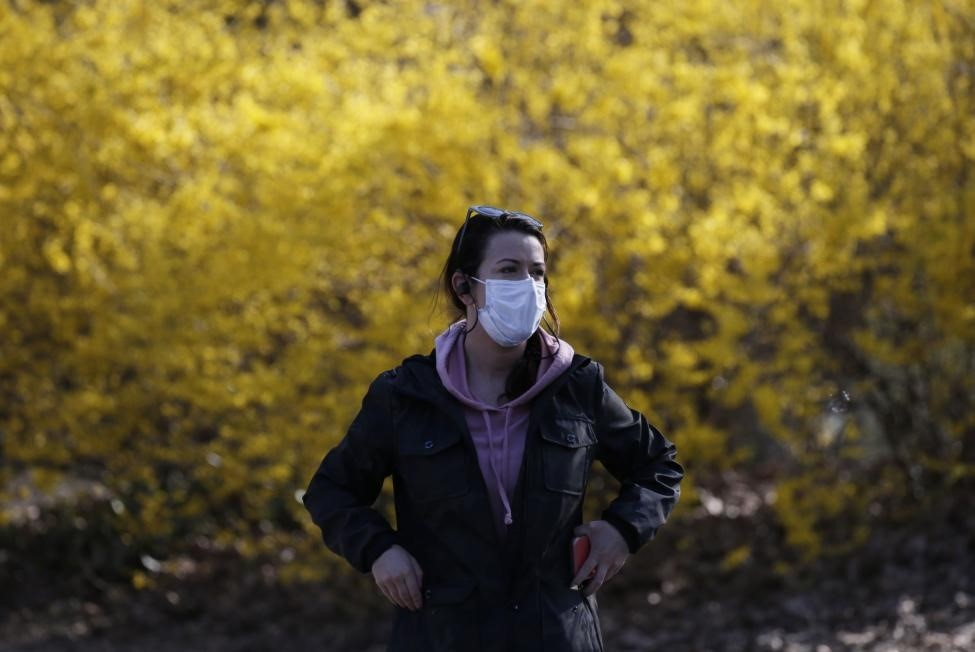face_with_mask: (442, 230, 560, 368)
